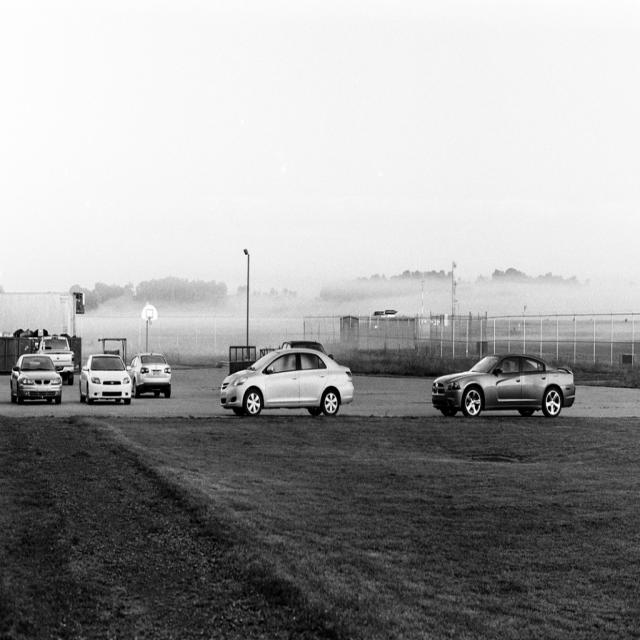car: (219, 345, 356, 419), (429, 351, 573, 416), (9, 348, 63, 403), (77, 353, 130, 402)
